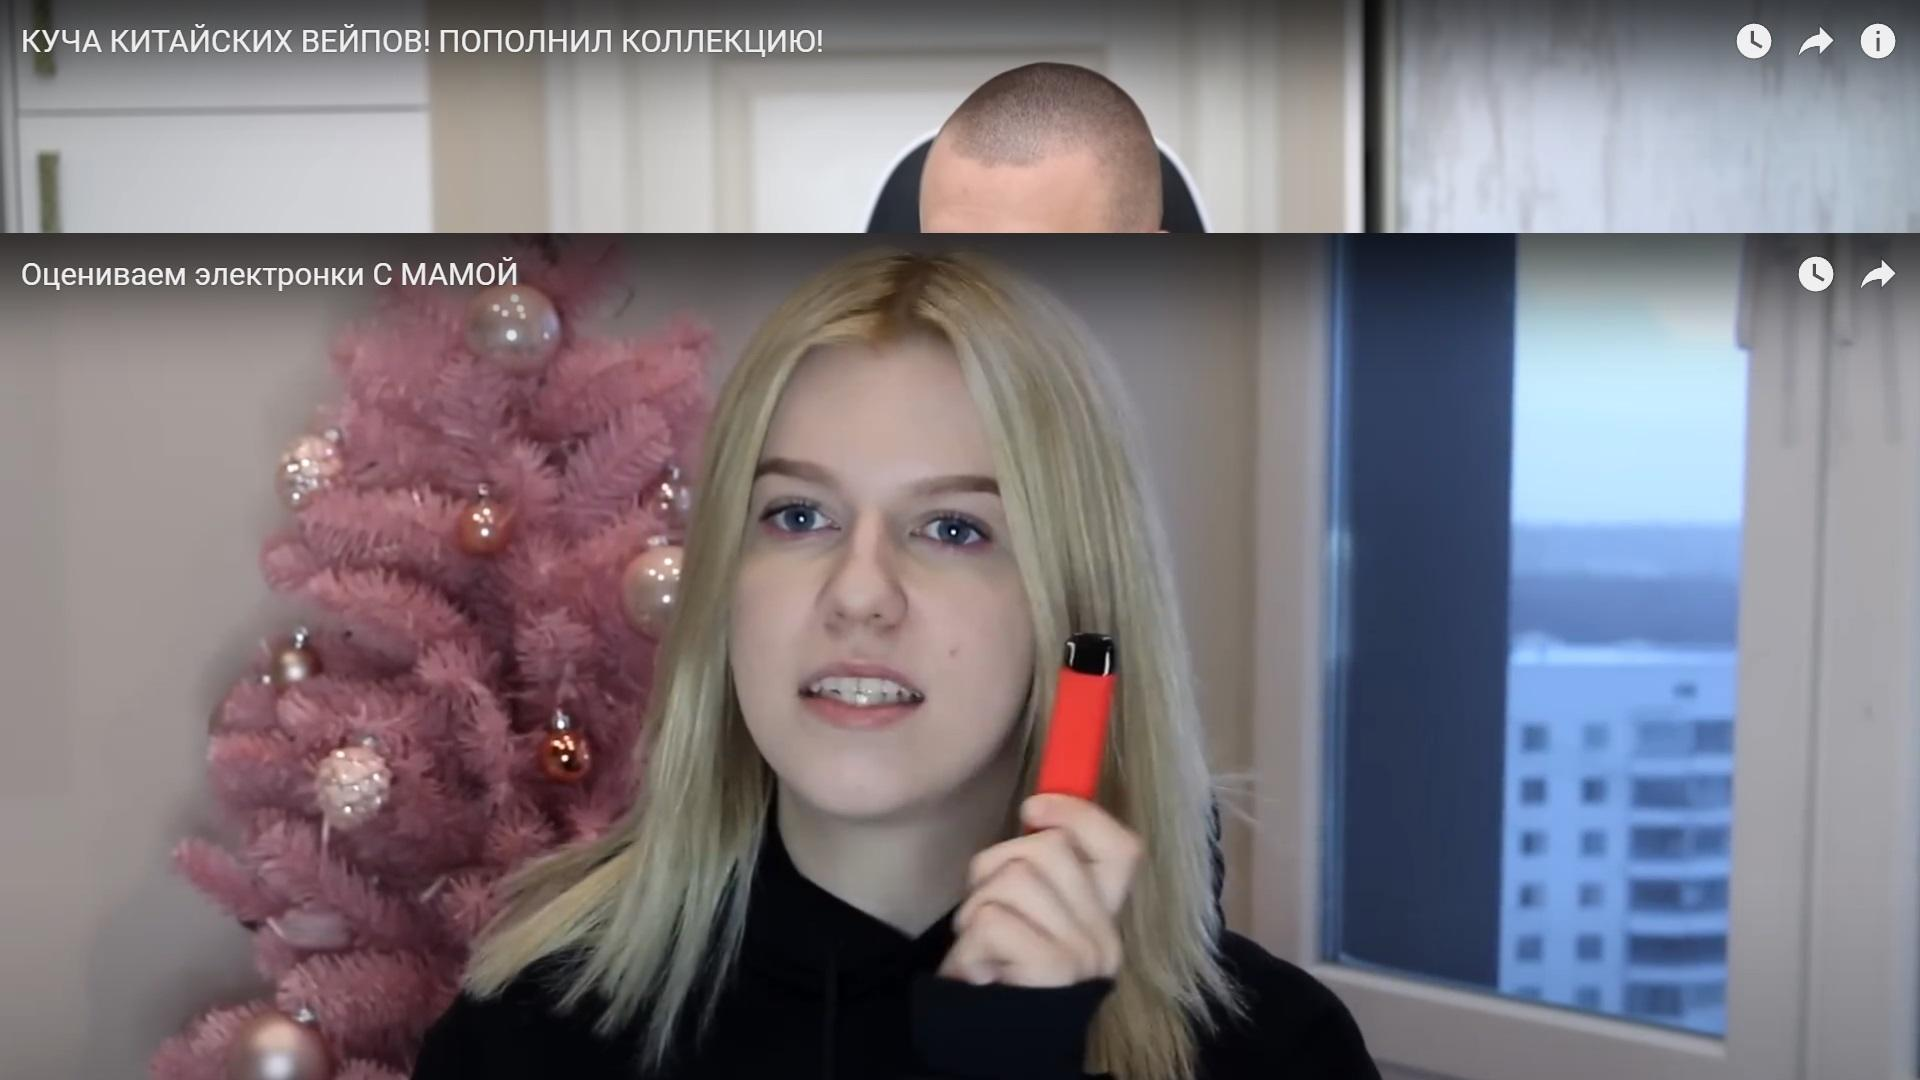Vape: (1030, 633, 1117, 800)
